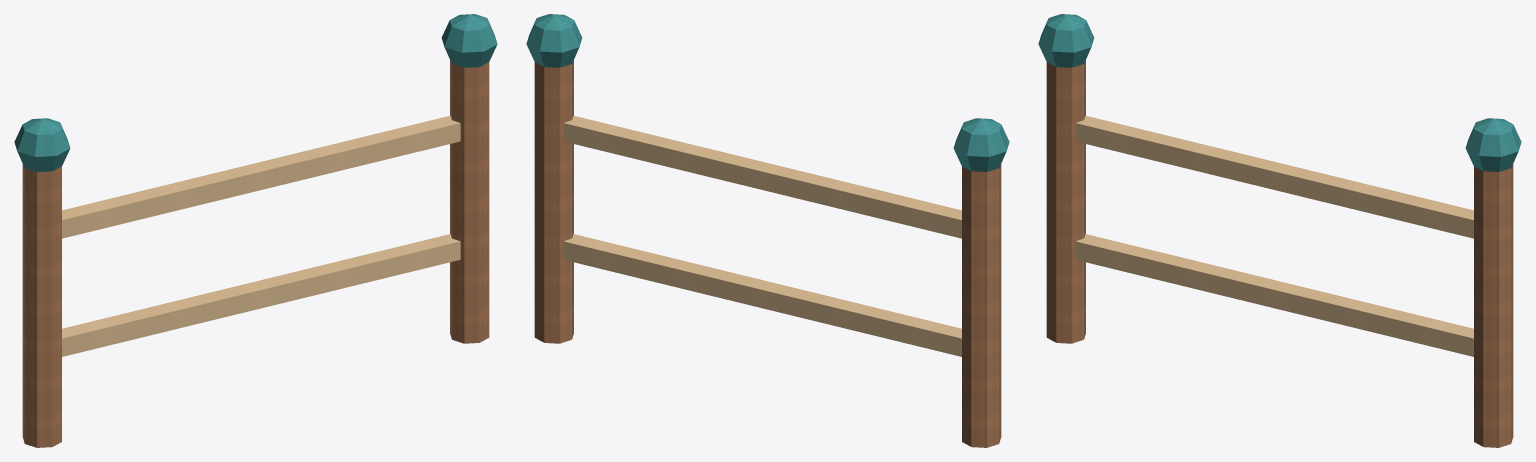
Rendered from atlas100-desertdeco-util04.glb.
3 renders of one model, left to right at view 1: azimuth 30°, elevation 25°; view 2: azimuth 150°, elevation 25°; view 3: azimuth 330°, elevation 25°, orthographic.
Visible parts, largest first — view 1: atlas100-desertdeco-util04:part-004, atlas100-desertdeco-util04:part-005, atlas100-desertdeco-util04:part-000, atlas100-desertdeco-util04:part-002, atlas100-desertdeco-util04:part-001, atlas100-desertdeco-util04:part-003; view 2: atlas100-desertdeco-util04:part-004, atlas100-desertdeco-util04:part-005, atlas100-desertdeco-util04:part-000, atlas100-desertdeco-util04:part-002, atlas100-desertdeco-util04:part-001, atlas100-desertdeco-util04:part-003; view 3: atlas100-desertdeco-util04:part-004, atlas100-desertdeco-util04:part-005, atlas100-desertdeco-util04:part-002, atlas100-desertdeco-util04:part-000, atlas100-desertdeco-util04:part-001, atlas100-desertdeco-util04:part-003.
Boxes of the visible parts, x1=… form: atlas100-desertdeco-util04:part-004: x1=62, y1=234, x2=460, y2=356; atlas100-desertdeco-util04:part-005: x1=62, y1=115, x2=460, y2=238; atlas100-desertdeco-util04:part-000: x1=22, y1=164, x2=61, y2=447; atlas100-desertdeco-util04:part-002: x1=450, y1=60, x2=489, y2=343; atlas100-desertdeco-util04:part-001: x1=14, y1=118, x2=70, y2=171; atlas100-desertdeco-util04:part-003: x1=441, y1=14, x2=497, y2=67; atlas100-desertdeco-util04:part-004: x1=563, y1=234, x2=961, y2=356; atlas100-desertdeco-util04:part-005: x1=563, y1=115, x2=961, y2=238; atlas100-desertdeco-util04:part-000: x1=962, y1=164, x2=1001, y2=447; atlas100-desertdeco-util04:part-002: x1=534, y1=60, x2=573, y2=343; atlas100-desertdeco-util04:part-001: x1=953, y1=118, x2=1009, y2=171; atlas100-desertdeco-util04:part-003: x1=526, y1=14, x2=582, y2=67; atlas100-desertdeco-util04:part-004: x1=1075, y1=234, x2=1473, y2=356; atlas100-desertdeco-util04:part-005: x1=1075, y1=115, x2=1473, y2=238; atlas100-desertdeco-util04:part-002: x1=1474, y1=164, x2=1513, y2=447; atlas100-desertdeco-util04:part-000: x1=1046, y1=60, x2=1085, y2=343; atlas100-desertdeco-util04:part-001: x1=1038, y1=14, x2=1094, y2=67; atlas100-desertdeco-util04:part-003: x1=1465, y1=118, x2=1521, y2=171.
Bounding box in the file's own units: 2.07 × 1.33 × 0.2184.
3 materials, 3 textured.
